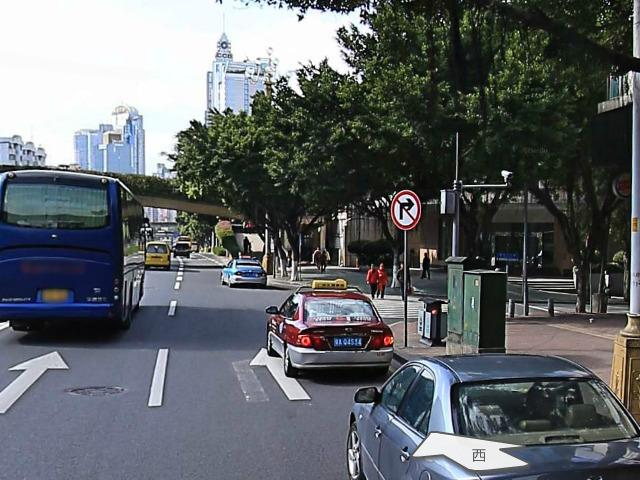not_turn_right: (390, 190, 422, 230)
